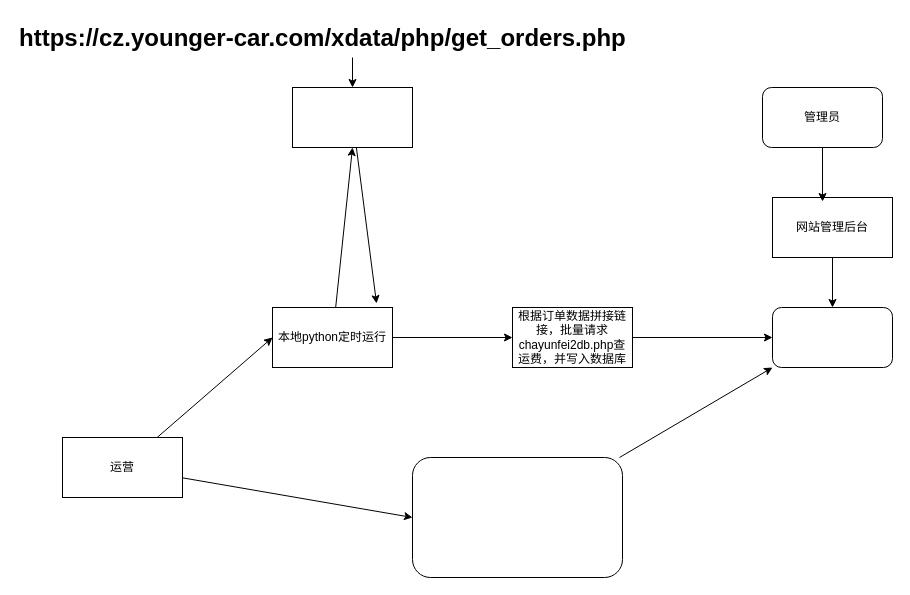
The diagram is 910 pixels wide and 595 high, and some of its shapes have lost their labels. The centre of each missing label's shape, as x and y in pixels:
"查看运费 https://cz.younger-car.com/admin-panel/public/query/index.php" belongs at [517,517].
"请求get_orders.php获取订单数据" belongs at [352,117].
"运费数据库" belongs at [832,337].
